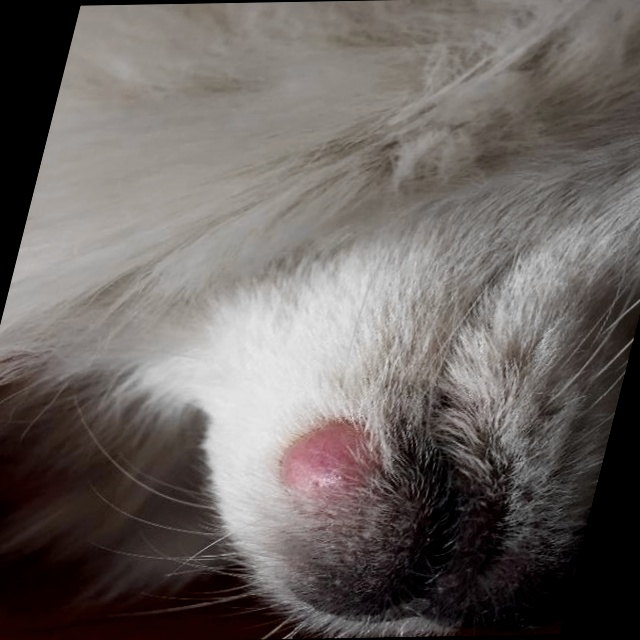lump_and_bump: (268, 416, 397, 509)
